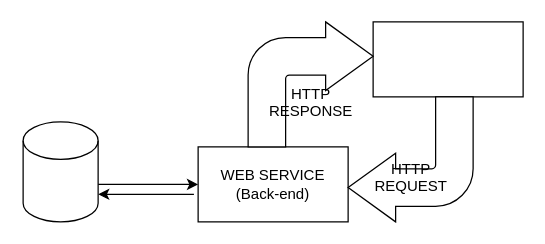
The diagram is 545 pixels wide and 244 high, and some of its shapes have lost their labels. The shapes that lost their labels are listed below. From the top down, each one's centre as x and y in pixels, then its label:
pixel 447 59: WEB BROWSER (Front-end)
pixel 60 171: DATABASE (MySQL)
